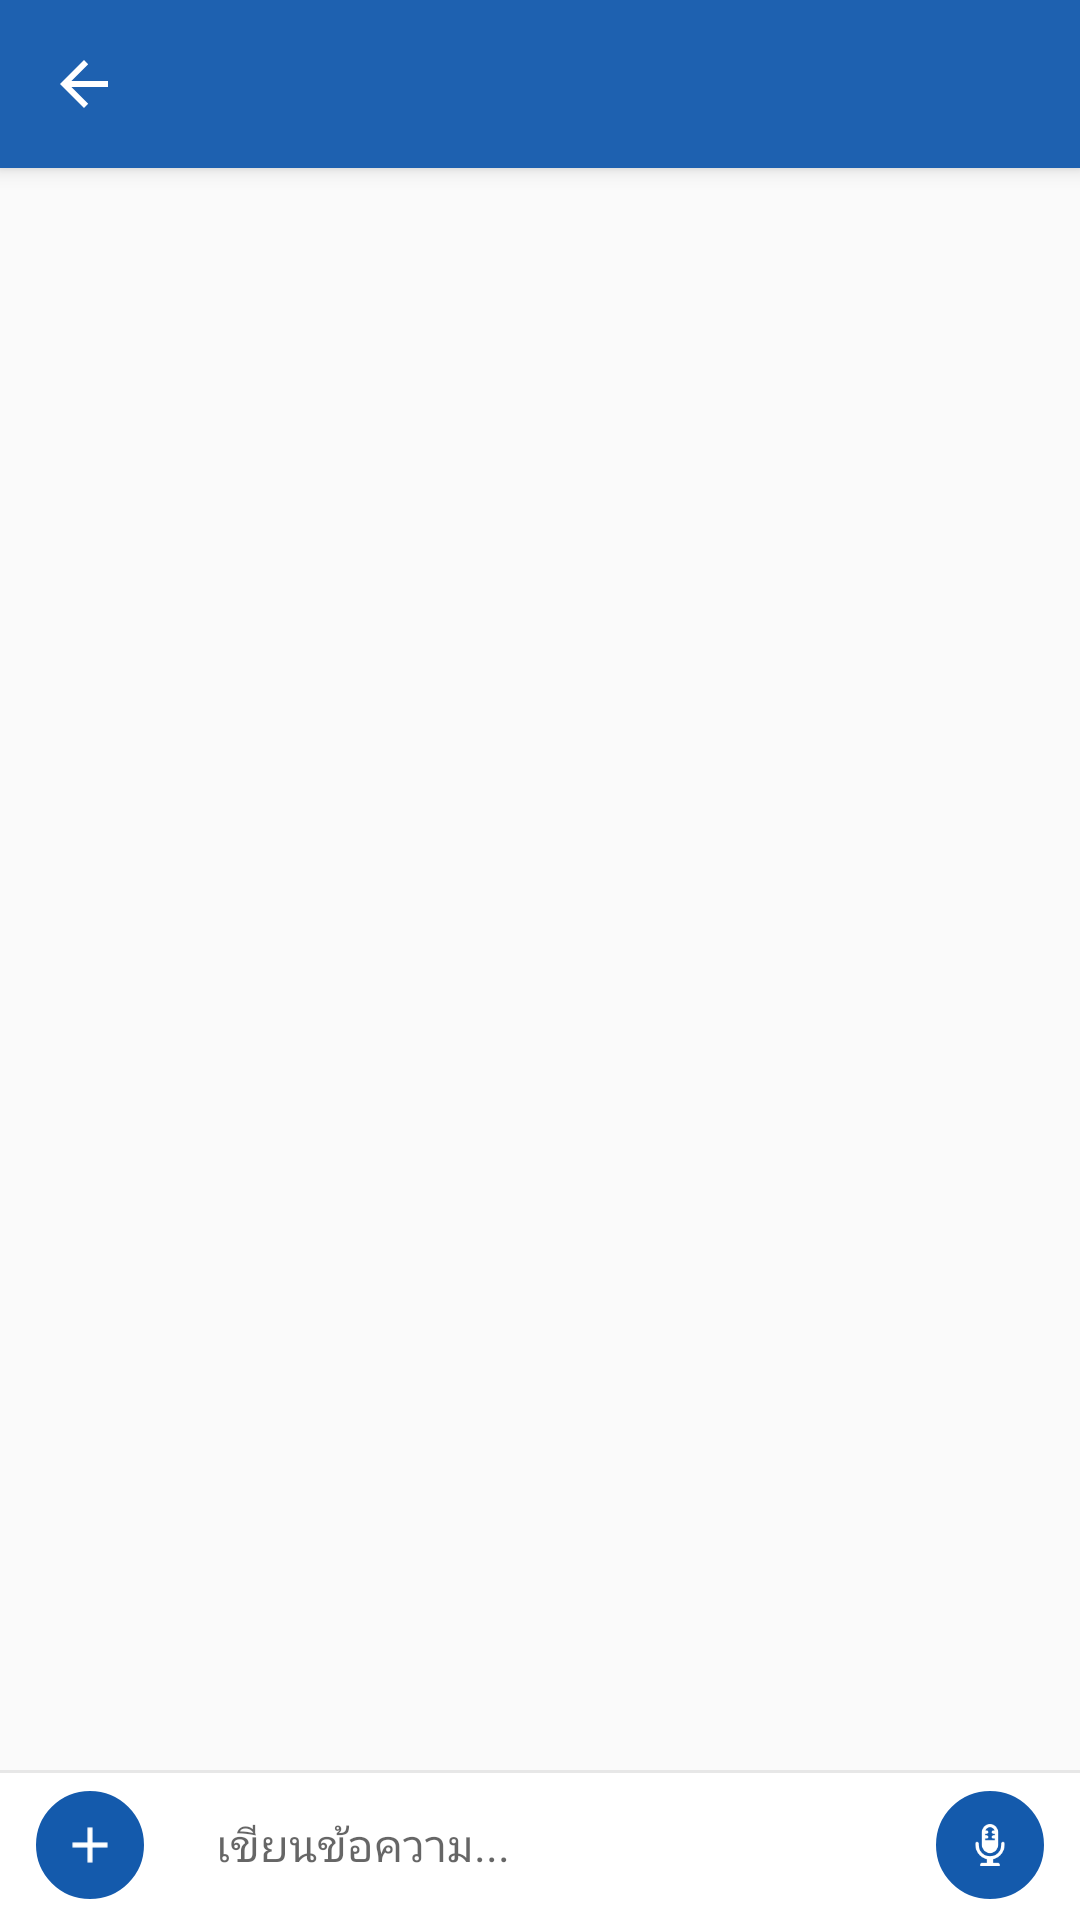

Where to tap for icons on this 1080 x 1920 app screen, as (x=x, y=y):
microphone: (x=990, y=1845)
plus: (x=90, y=1845)
